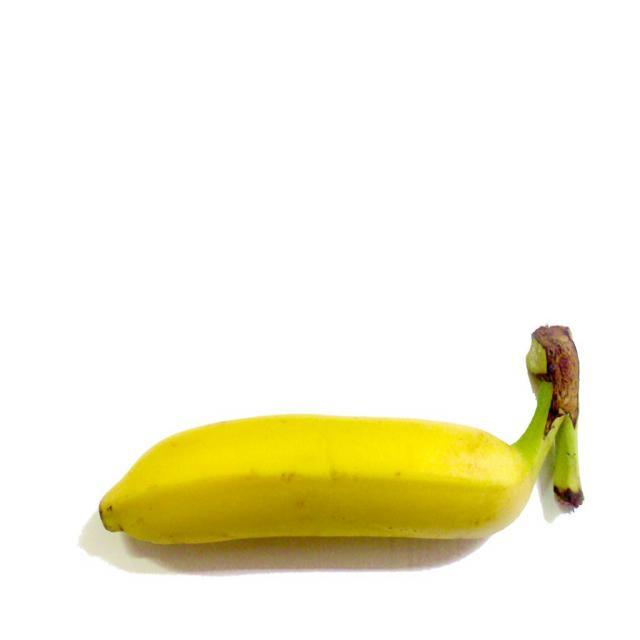Banana: (95, 324, 585, 548)
